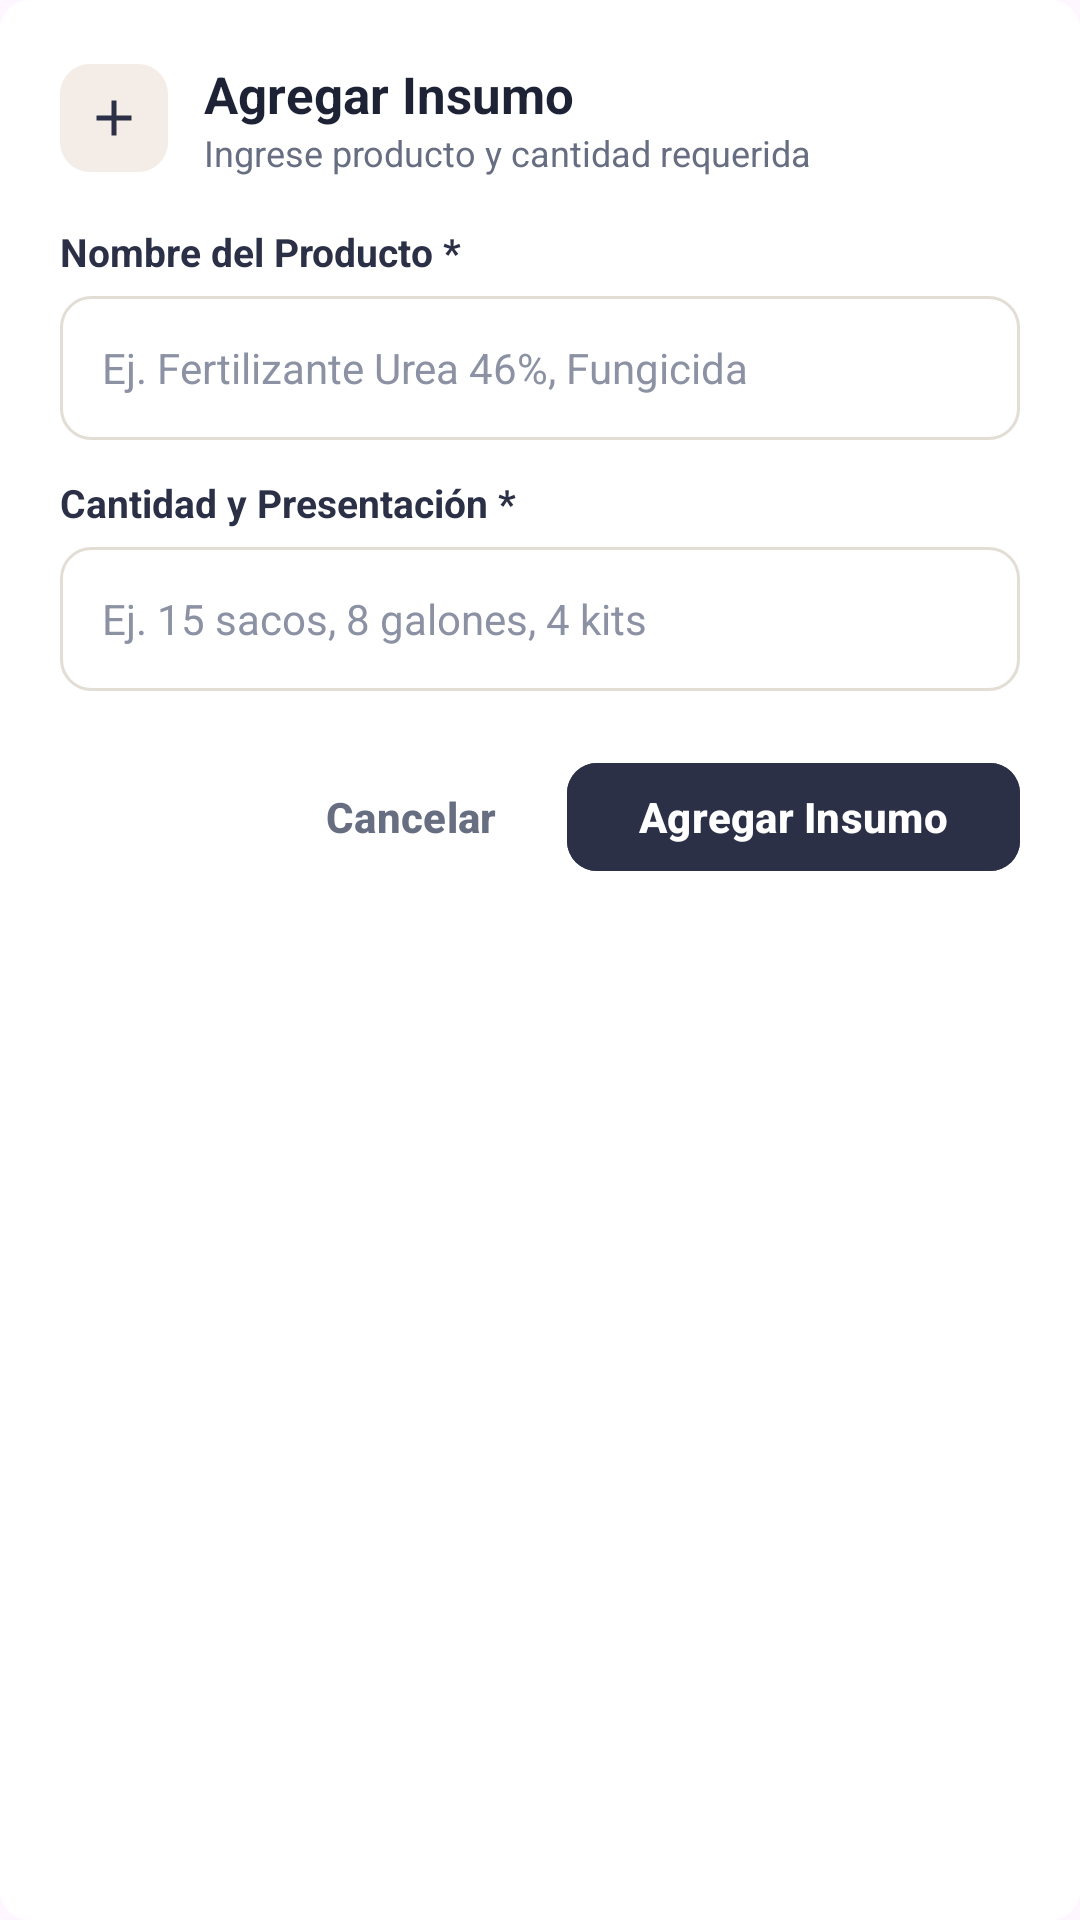

Where to tap for icons on this 1080 × 1920 app screen, as point (x, y):
add: point (114, 118)
